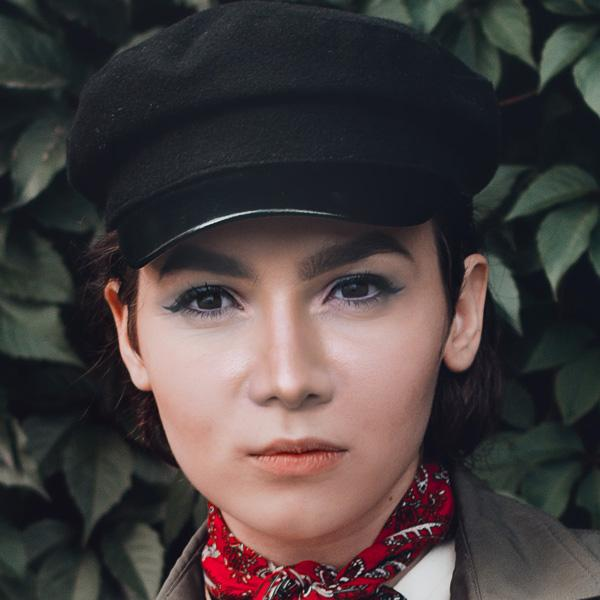Eyes: (161, 276, 251, 330), (314, 267, 406, 317)
